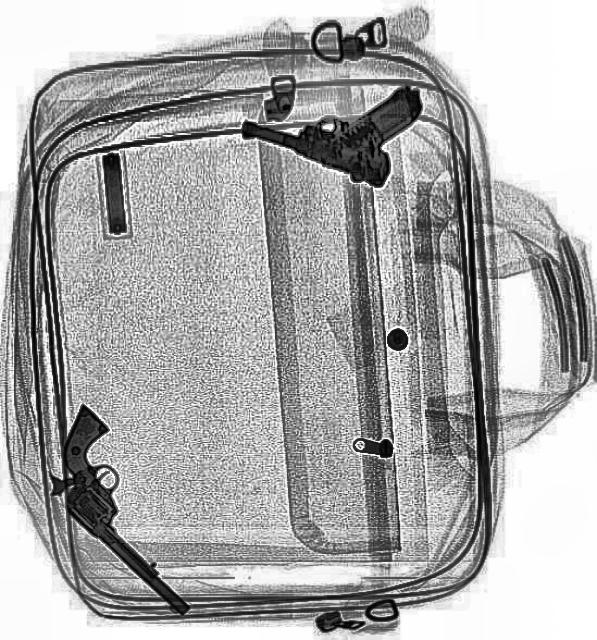Gun: (19, 403, 245, 619), (234, 35, 428, 192)
